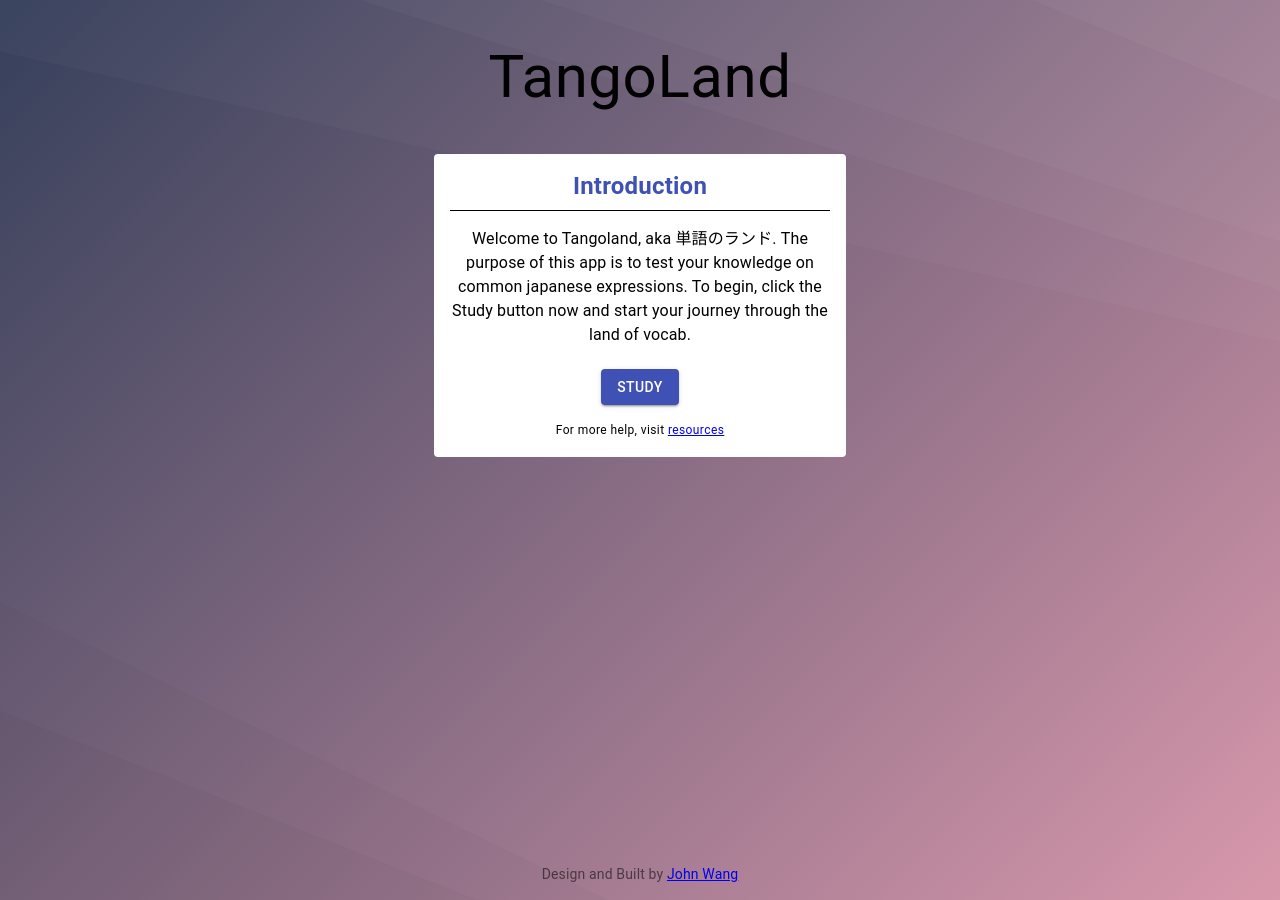
Test case: App › navigate to study
The width and height of the screenshot is (1280, 900).
Expected: the heading "Introduction" is shown, top-left (450, 170), bottom-right (830, 211)
Click the button. click: (640, 387)
box: top-left (601, 369), bottom-right (679, 405)
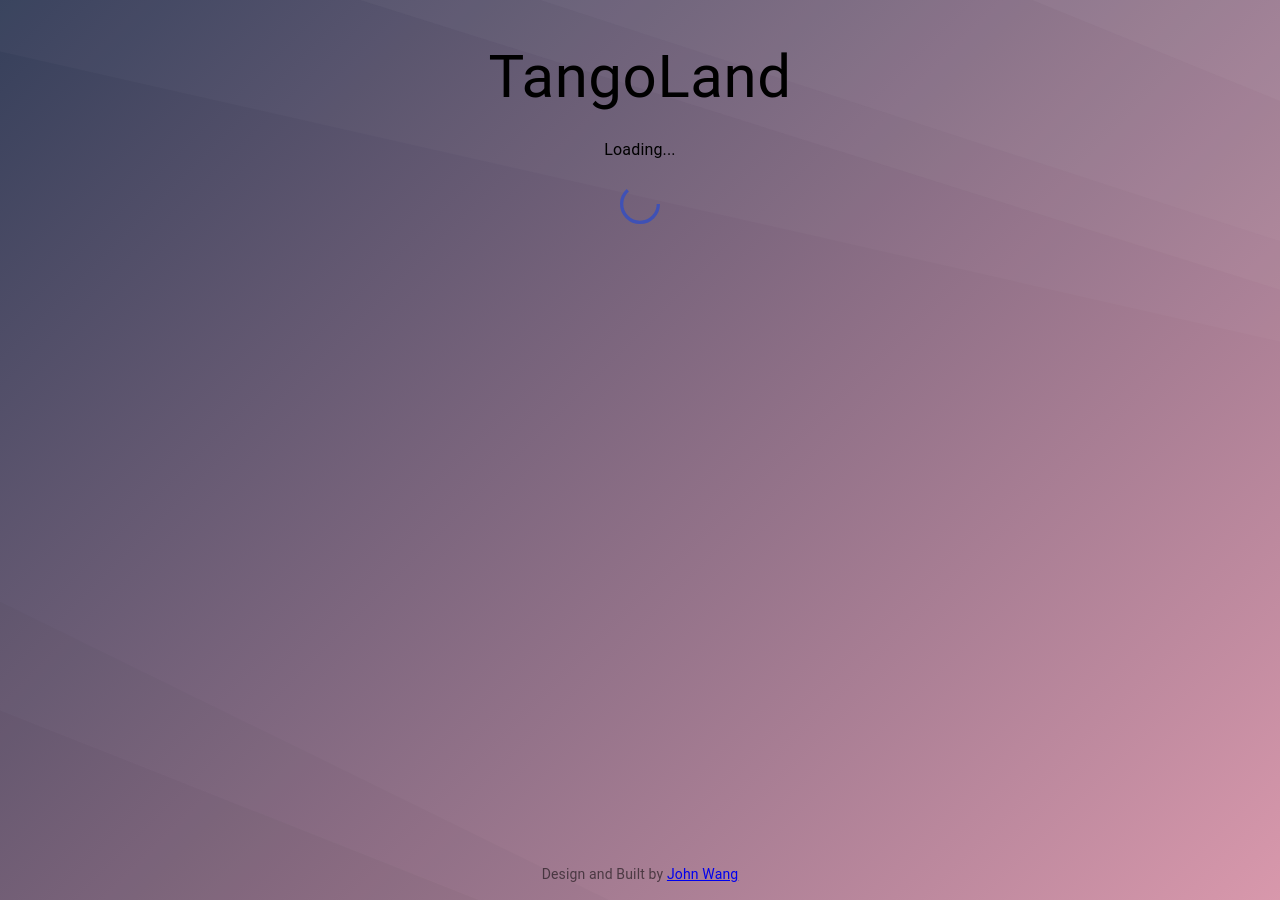
Result: the text "Loading..." is shown at top-left (604, 140), bottom-right (676, 159)
